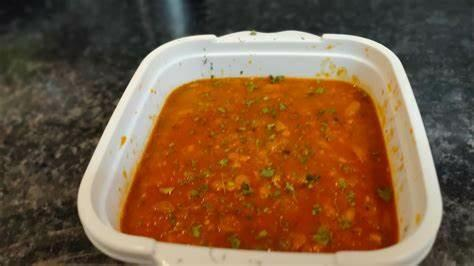RajmaCurry: (121, 76, 399, 254)
